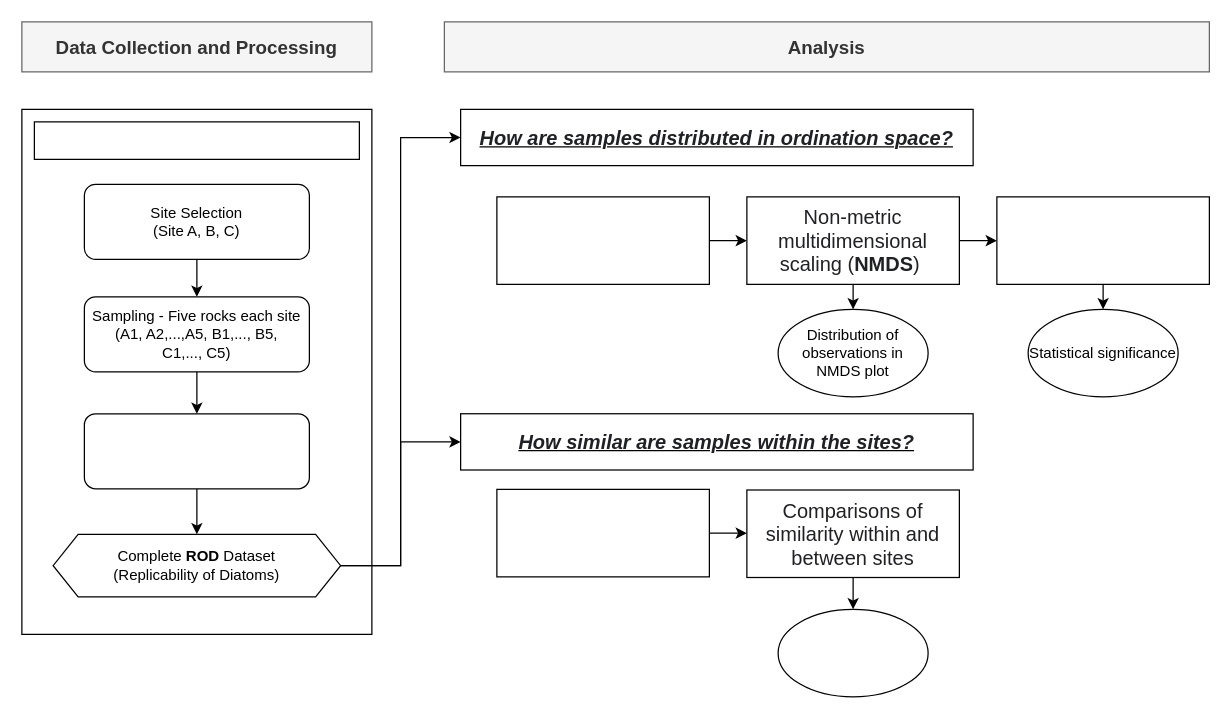
The diagram is 1231 pixels wide and 719 high, and some of its shapes have lost their labels. Here are the shapes that lost their labels. From the top down, the box of each, then its label:
(33, 121, 359, 159): Fieldwork
(496, 196, 709, 284): Dimension check for NMDS Analysis
(996, 196, 1209, 284): Analysis of similarities ( ANOSIM )
(83, 412, 309, 489): Lap Experiment and Diatom Identification
(496, 488, 709, 577): Bray-Curtis Dissimilarity Matrix
(777, 608, 928, 697): Box plot showing similarity between the sites
